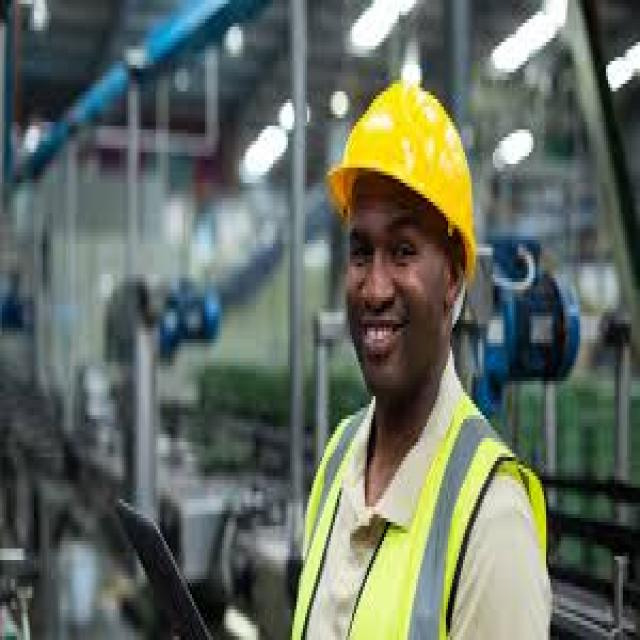Reflective-Jacket: (290, 385, 557, 640)
Safety-Helmet: (320, 72, 489, 282)
